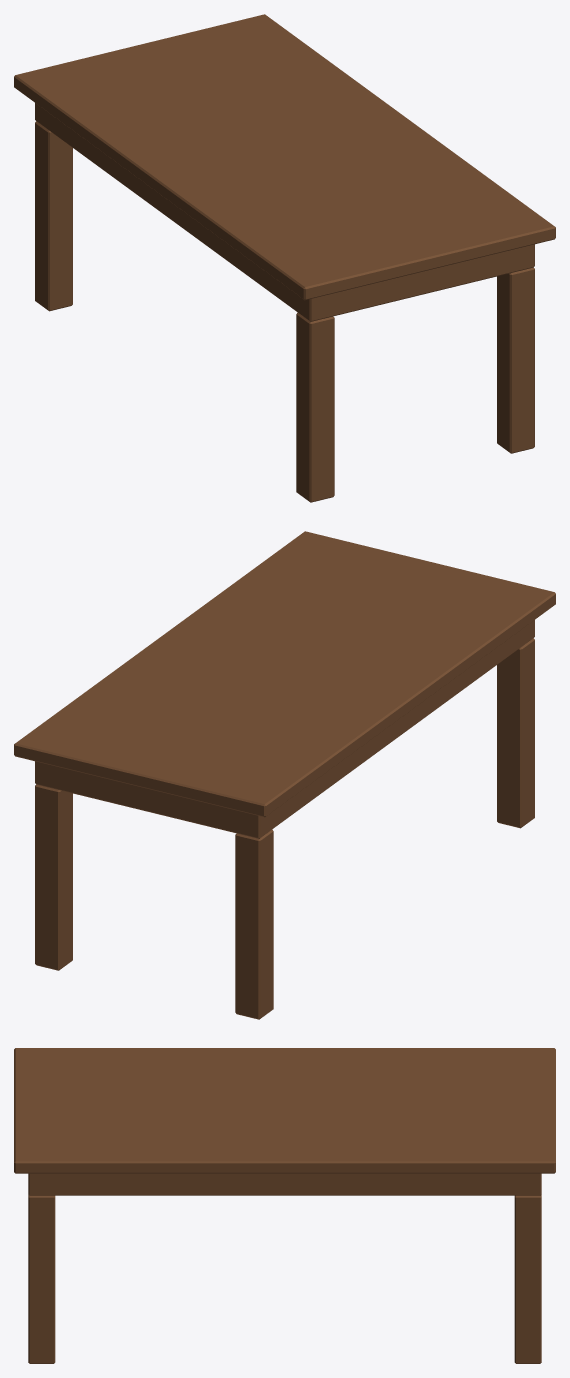
File: tmp_table.fbx
3 renders of one model, top to bottom at view 1: azimuth 30°, elevation 25°; view 2: azimuth 150°, elevation 25°; view 3: azimuth 270°, elevation 25°, orthographic. The views are drawn at different scales.
Visible parts, largest first — view 1: Table; view 2: Table; view 3: Table.
Boxes of the visible parts, x1,y1,x2,y2 form: Table: (14, 14, 555, 502); Table: (14, 531, 555, 1019); Table: (14, 1048, 555, 1363).
Size of the model in its own units: 100 by 85 by 200.
